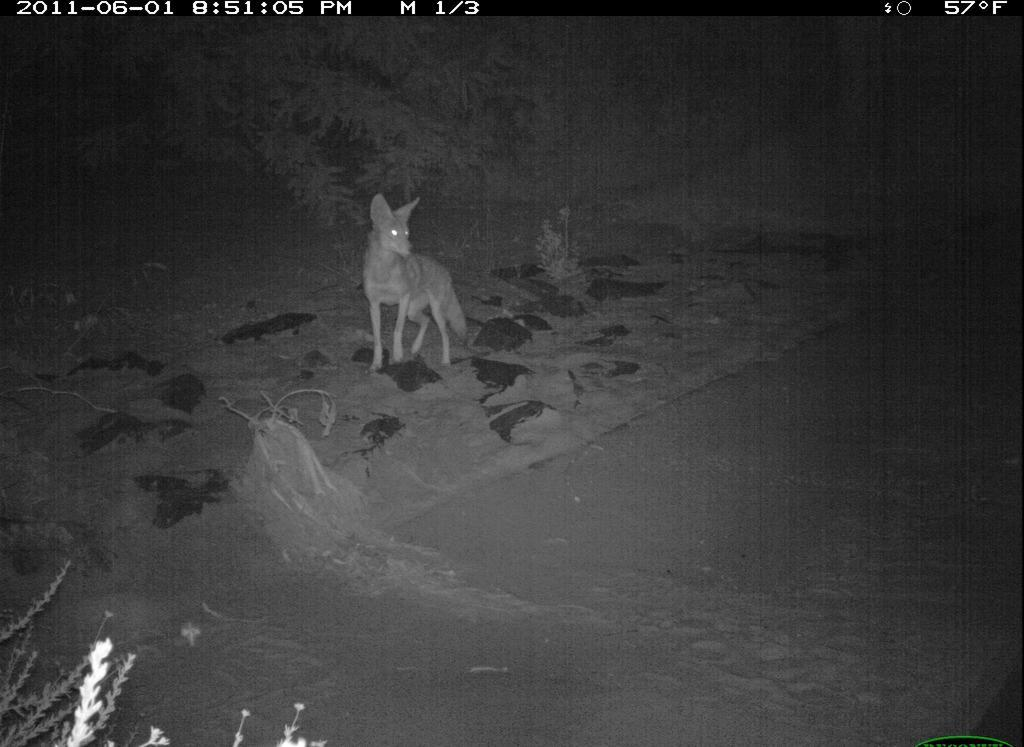coyote: (341, 175, 482, 391)
